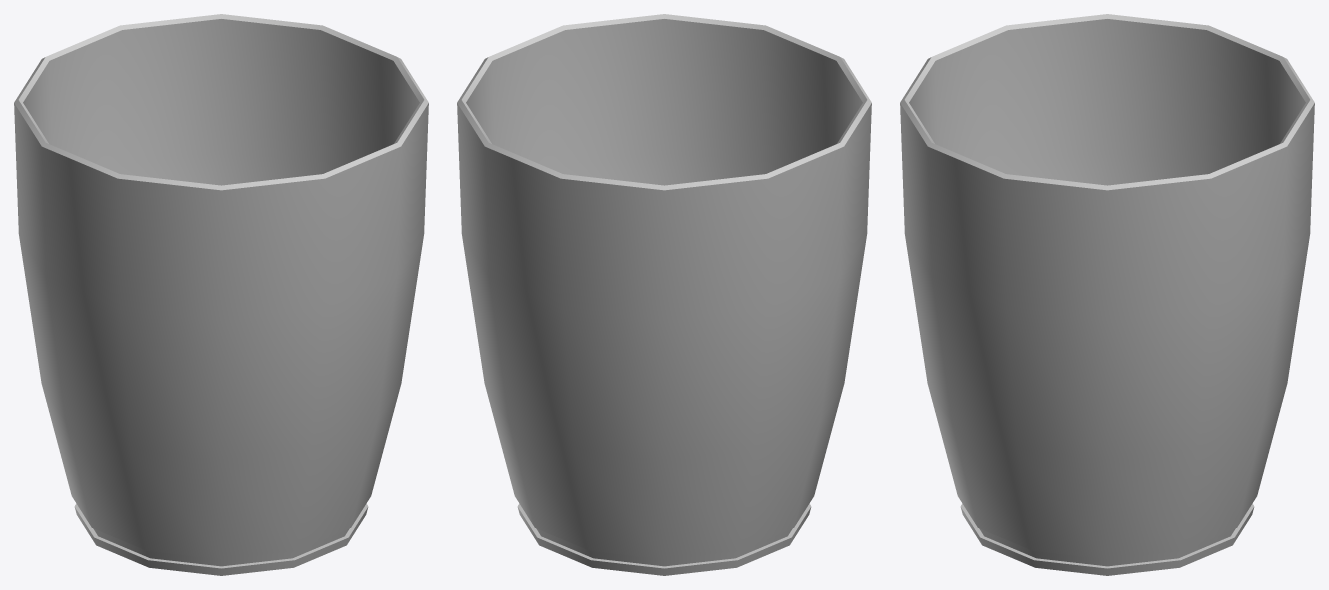
The model's file is Hea_Ba_Bin.fbx.
The picture shows the model from 3 angles, left to right: view 1: azimuth 30°, elevation 25°; view 2: azimuth 150°, elevation 25°; view 3: azimuth 270°, elevation 25°; orthographic projection.
Parts seen in each view (by area): view 1: Bin_Toilet; view 2: Bin_Toilet; view 3: Bin_Toilet.
Part boxes in pixels (x1,y1,x2,y2): Bin_Toilet: (14,14,428,575); Bin_Toilet: (457,14,871,575); Bin_Toilet: (900,14,1314,575).
Size of the model in its own units: 45.22 by 49.91 by 45.22.
